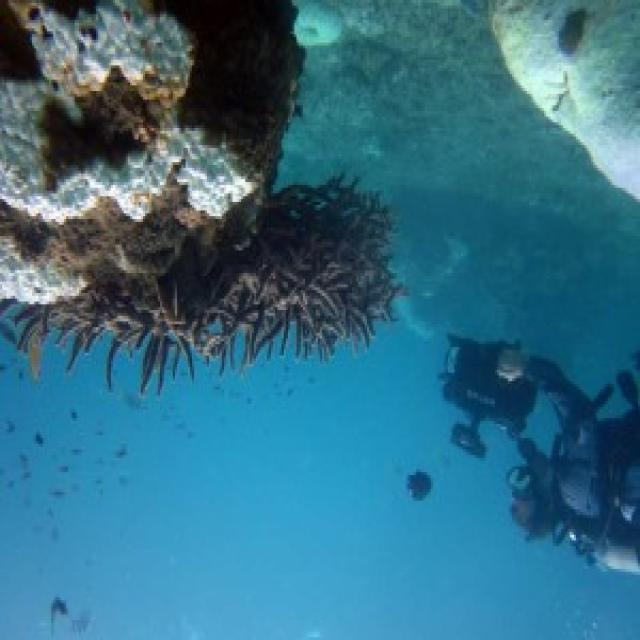Bleached: (1, 87, 257, 232), (37, 1, 195, 91), (1, 240, 86, 314)
Healthy: (88, 222, 403, 396), (192, 1, 298, 137), (49, 84, 175, 172), (13, 224, 249, 264), (2, 308, 91, 383)
